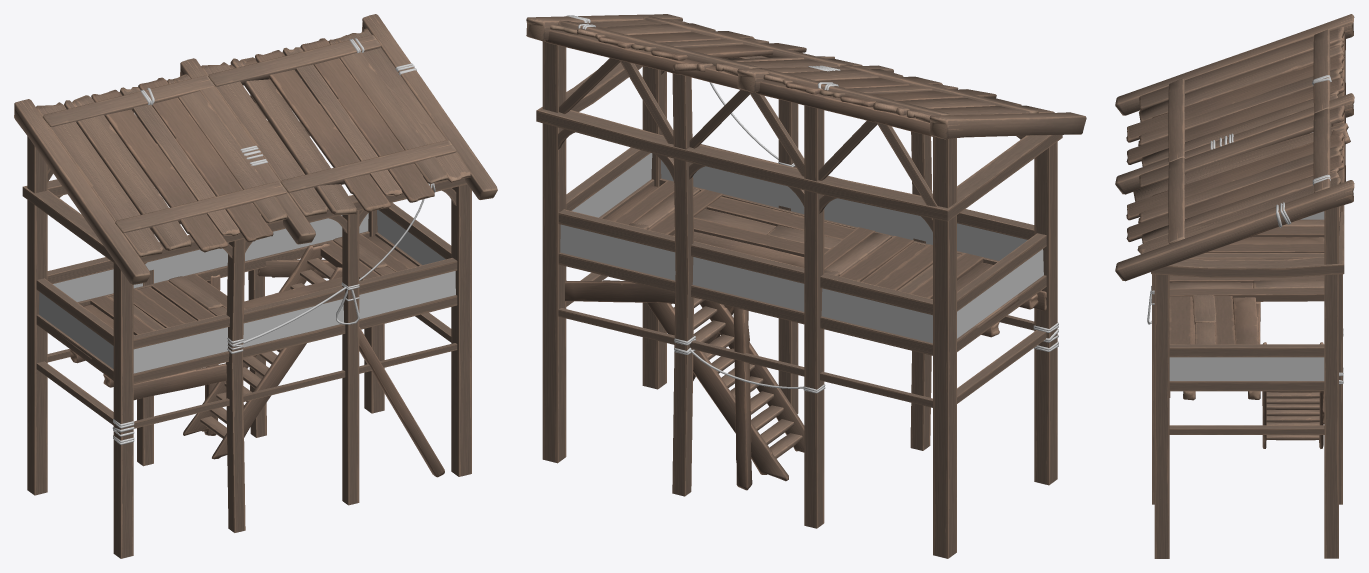
File: SM_Scaffolding_04.fbx
3 views of the same model, side by side, from view 1: azimuth 30°, elevation 25°; view 2: azimuth 150°, elevation 25°; view 3: azimuth 270°, elevation 25° (orthographic). The views are drawn at different scales.
Parts seen in each view (by area): view 1: SM_Scaffolding_04_LOD0; view 2: SM_Scaffolding_04_LOD0; view 3: SM_Scaffolding_04_LOD0.
Boxes of the visible parts, <box> form: SM_Scaffolding_04_LOD0: <box>14,14,497,558</box>; SM_Scaffolding_04_LOD0: <box>526,14,1086,558</box>; SM_Scaffolding_04_LOD0: <box>1115,14,1354,558</box>.
Size of the model in its own units: 1131 by 658 by 1140.
